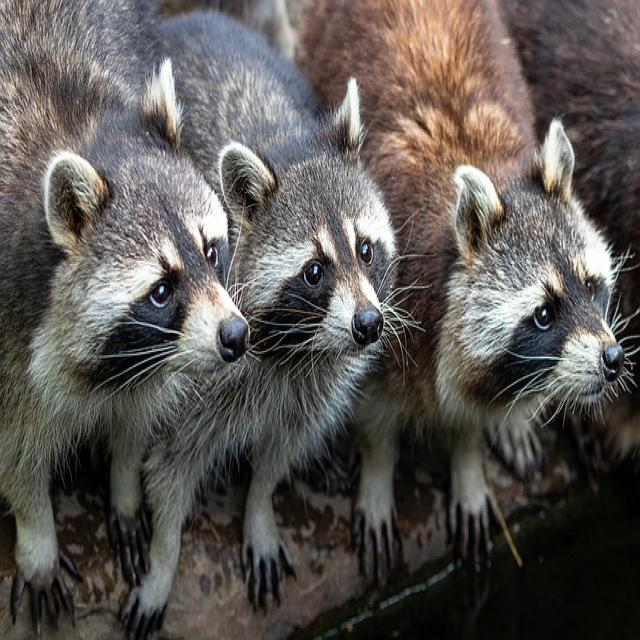Carnivorous: (42, 0, 397, 616), (283, 0, 640, 544), (0, 13, 248, 631)
